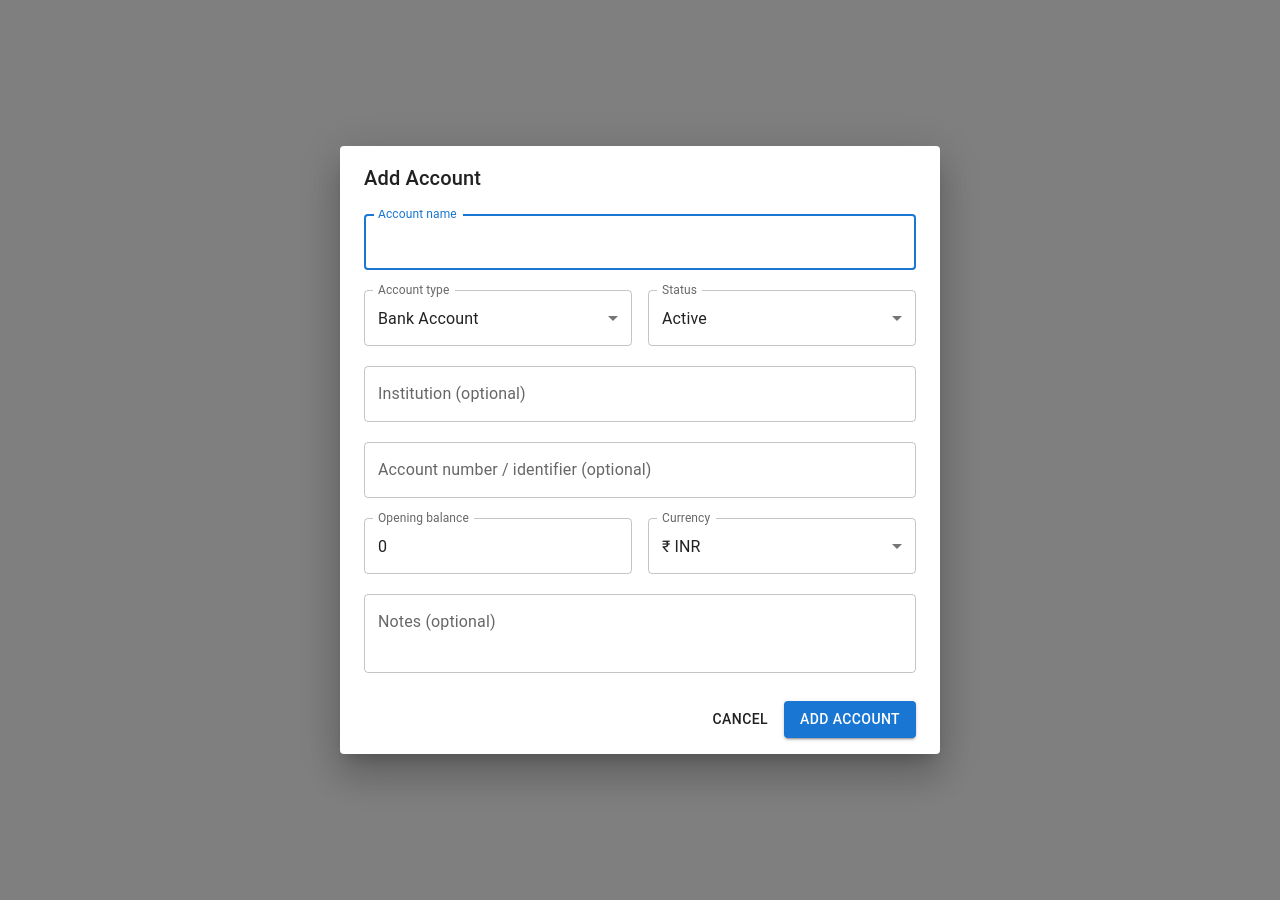
Scenario: AccountFormDialog › shows a validation error and does not submit when the name is blank
The image size is (1280, 900).
Click the button "Add Account": (850, 720) [784,701,916,738]
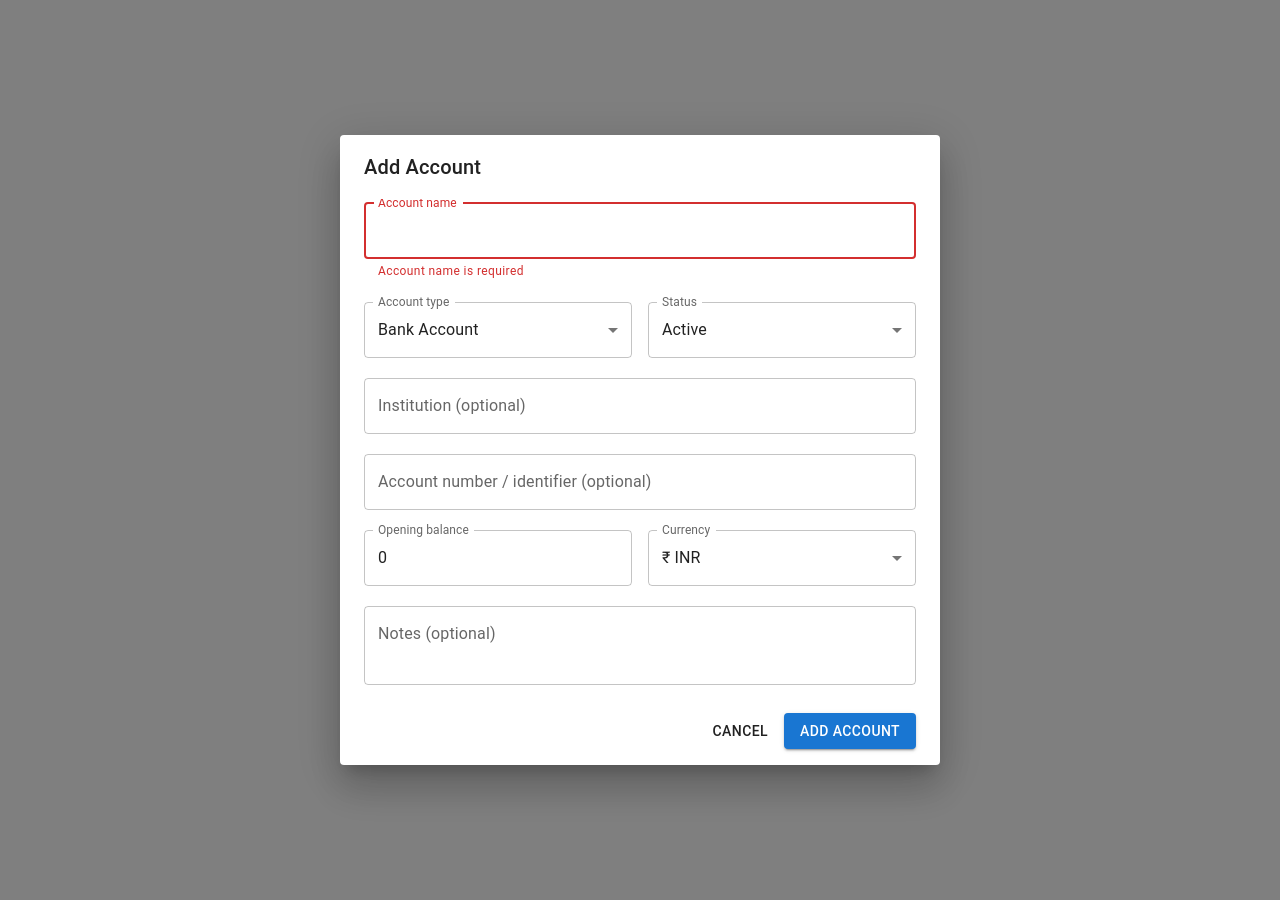
Result: the text "Account name is required" is shown at [378,264,524,278]
